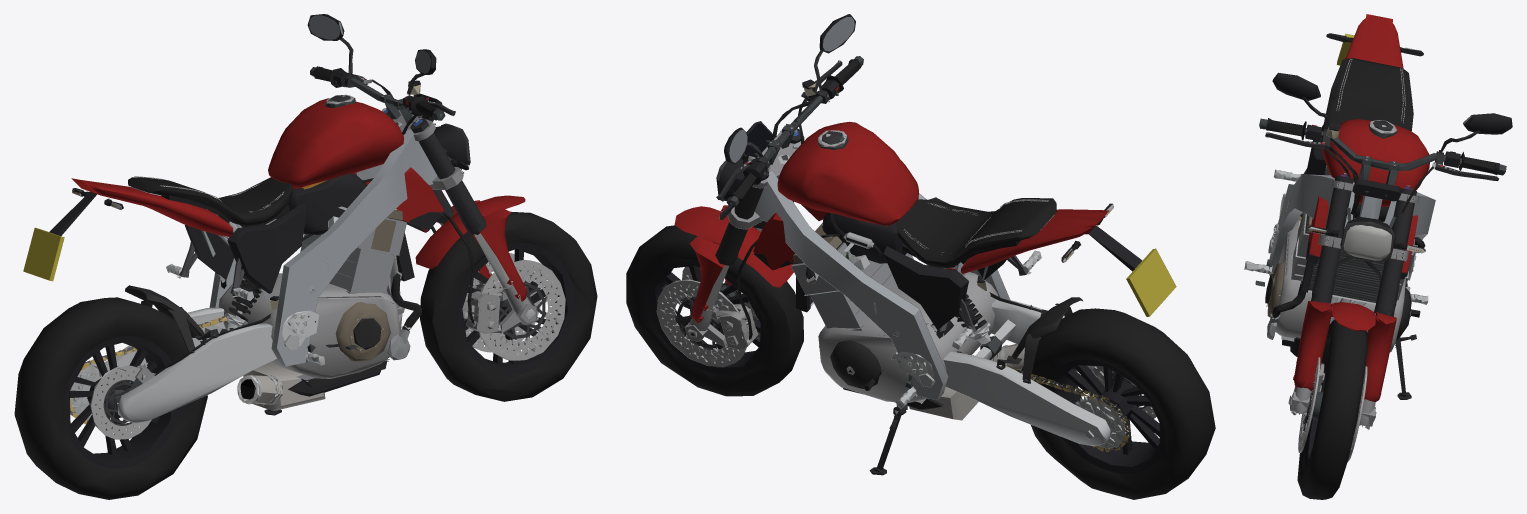
File: SM_Prop_house_bike_1.glb
3 renders of one model, left to right at view 1: azimuth 30°, elevation 25°; view 2: azimuth 150°, elevation 25°; view 3: azimuth 270°, elevation 25°, orthographic. The views are drawn at different scales.
Parts seen in each view (by area): view 1: SM_Prop_house_bike_1; view 2: SM_Prop_house_bike_1; view 3: SM_Prop_house_bike_1.
Part boxes in pixels (left/top/right/bottom): SM_Prop_house_bike_1: left=14, top=14, right=597, bottom=499; SM_Prop_house_bike_1: left=626, top=14, right=1215, bottom=499; SM_Prop_house_bike_1: left=1244, top=14, right=1512, bottom=499.
Bounding box in the file's own units: 2.06 × 1.33 × 0.8712.
